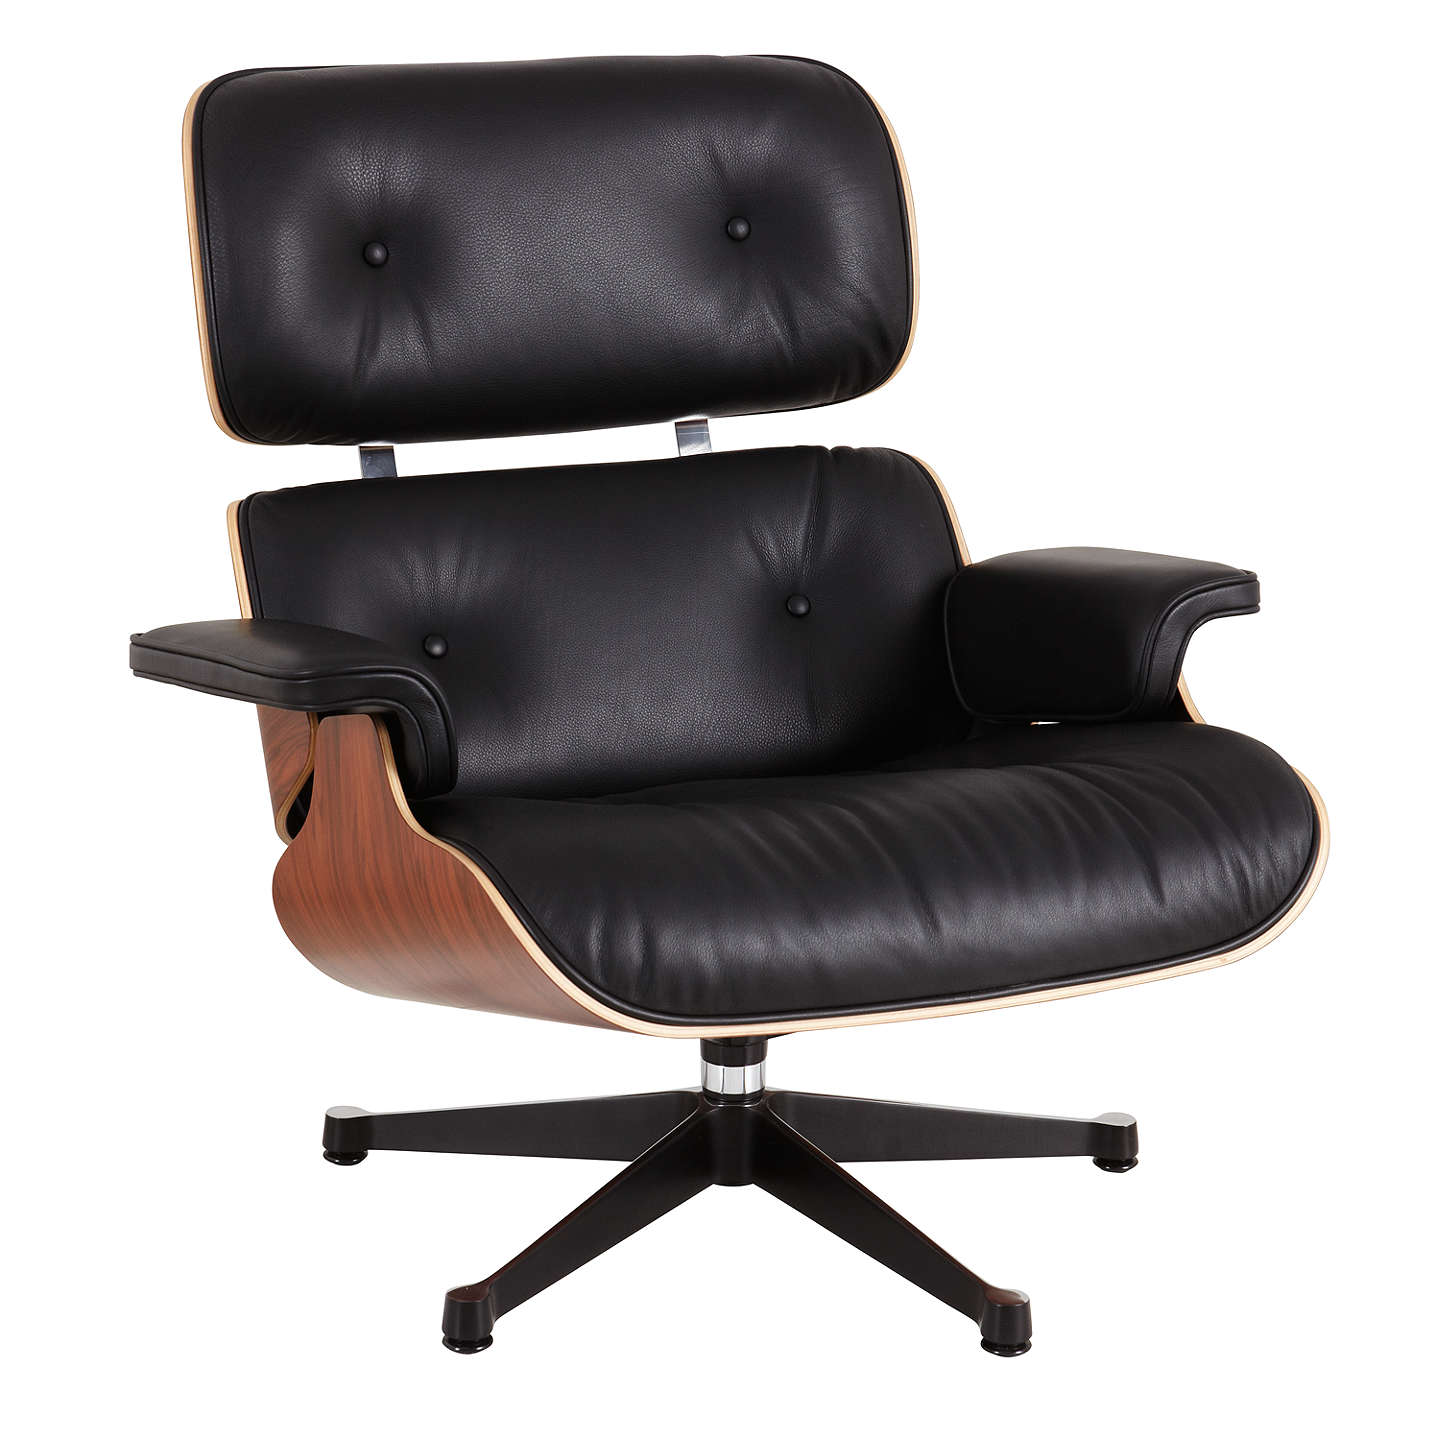chairs: (125, 55, 1328, 1375)
